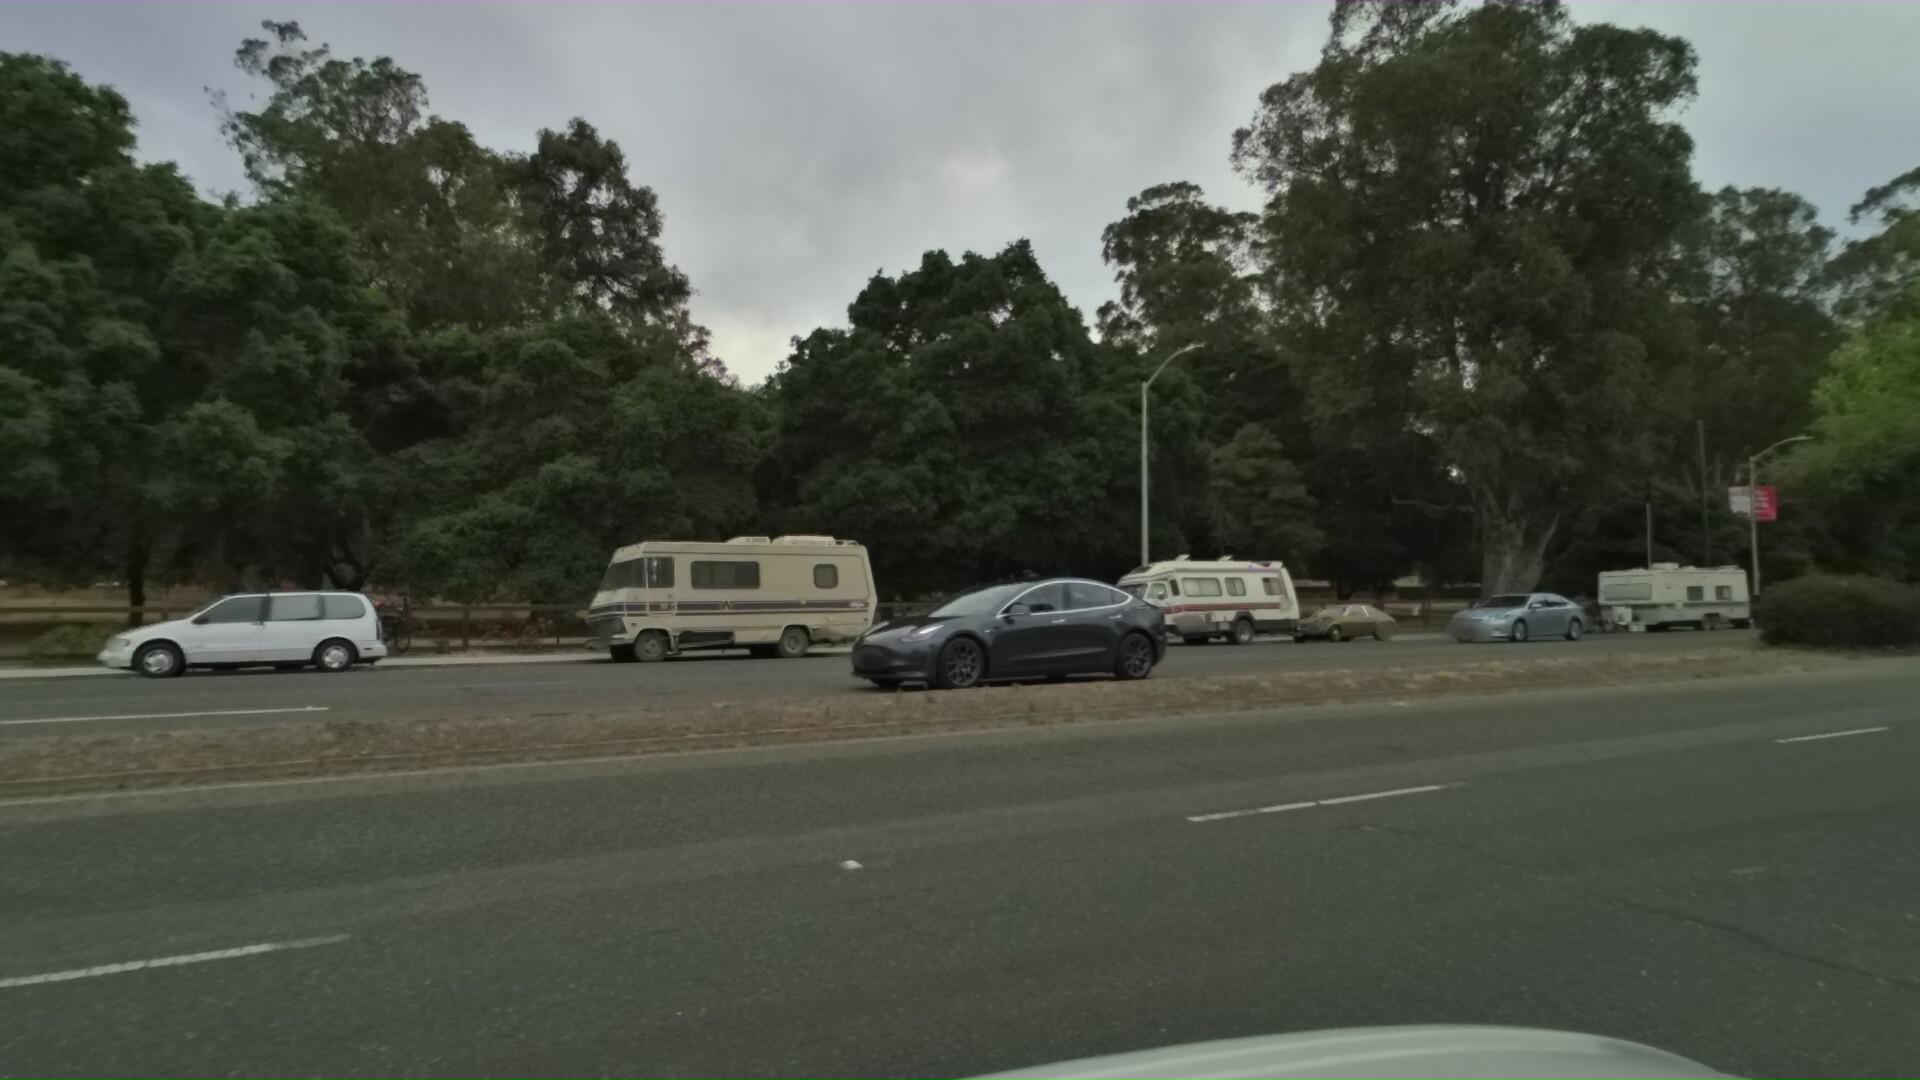car: (787, 567, 1155, 705), (49, 579, 398, 688), (878, 560, 1079, 655), (1408, 584, 1571, 646), (1261, 597, 1390, 647)
other_vehicle: (545, 517, 874, 661), (1063, 545, 1294, 649), (1581, 554, 1749, 633)
